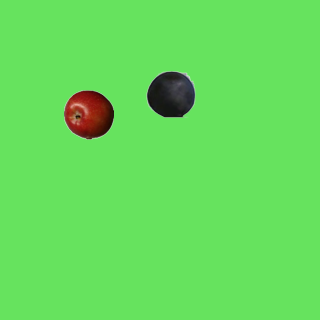Apple Braeburn: (63, 89, 113, 139)
Grape Blue: (145, 68, 195, 118)
